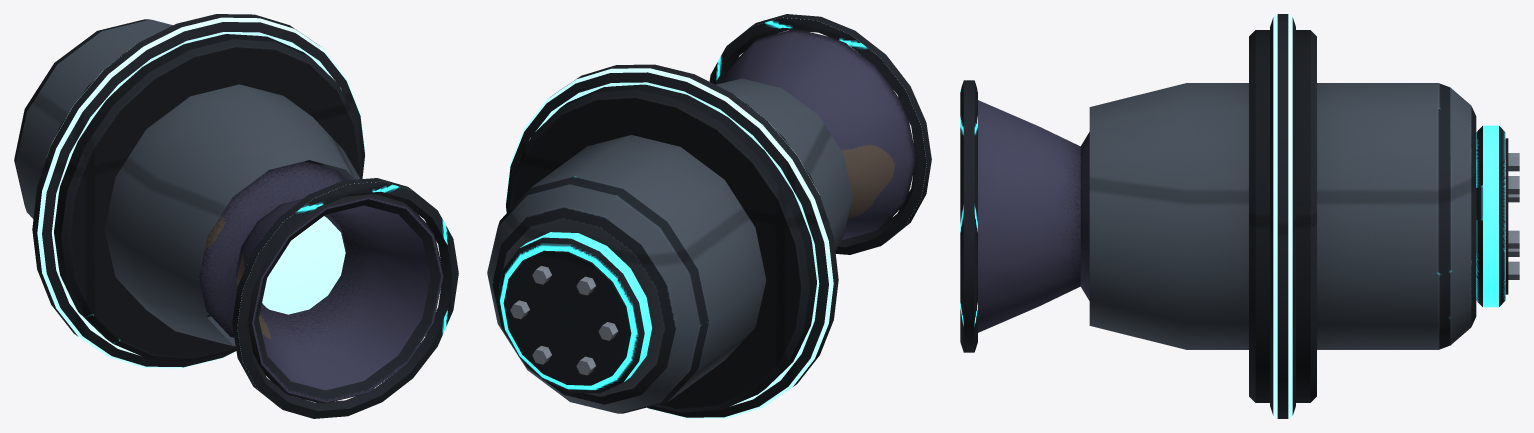
File: motor_auxiliar_t3.fbx
3 renders of one model, left to right at view 1: azimuth 30°, elevation 25°; view 2: azimuth 150°, elevation 25°; view 3: azimuth 270°, elevation 25°, orthographic. The views are drawn at different scales.
Visible parts, largest first — view 1: motor_auxiliar_t3, motor_auxiliar_t3_neon; view 2: motor_auxiliar_t3, motor_auxiliar_t3_neon; view 3: motor_auxiliar_t3, motor_auxiliar_t3_neon.
Part boxes in pixels (bbox=[...]): motor_auxiliar_t3: bbox=[14, 14, 458, 418]; motor_auxiliar_t3_neon: bbox=[37, 17, 440, 401]; motor_auxiliar_t3: bbox=[487, 14, 931, 417]; motor_auxiliar_t3_neon: bbox=[505, 17, 926, 418]; motor_auxiliar_t3: bbox=[960, 14, 1519, 418]; motor_auxiliar_t3_neon: bbox=[1273, 14, 1292, 418].
Bounding box in the file's own units: 1.79 × 1.77 × 2.46.
